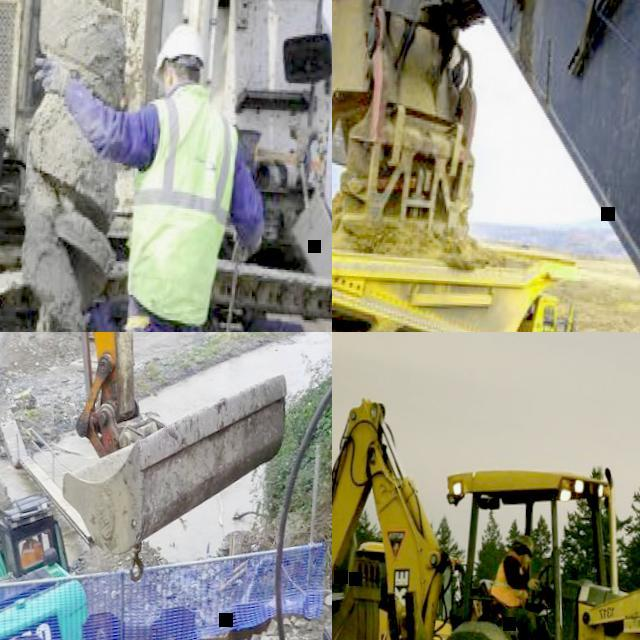helmet: (152, 22, 204, 81), (515, 532, 537, 552)
vest: (124, 83, 242, 324), (492, 550, 532, 606), (22, 539, 40, 565)
